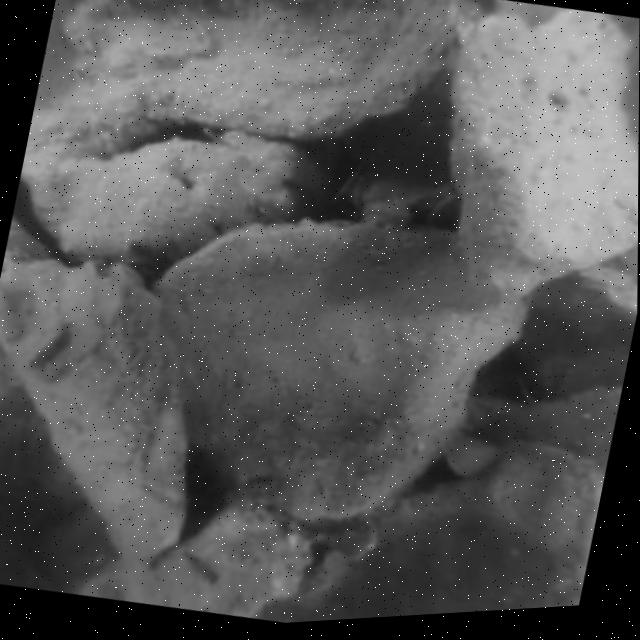Oyster-Indeterminate: (156, 219, 537, 521), (247, 442, 605, 622), (0, 256, 188, 567), (60, 0, 462, 140), (455, 12, 639, 301), (511, 266, 638, 398)
